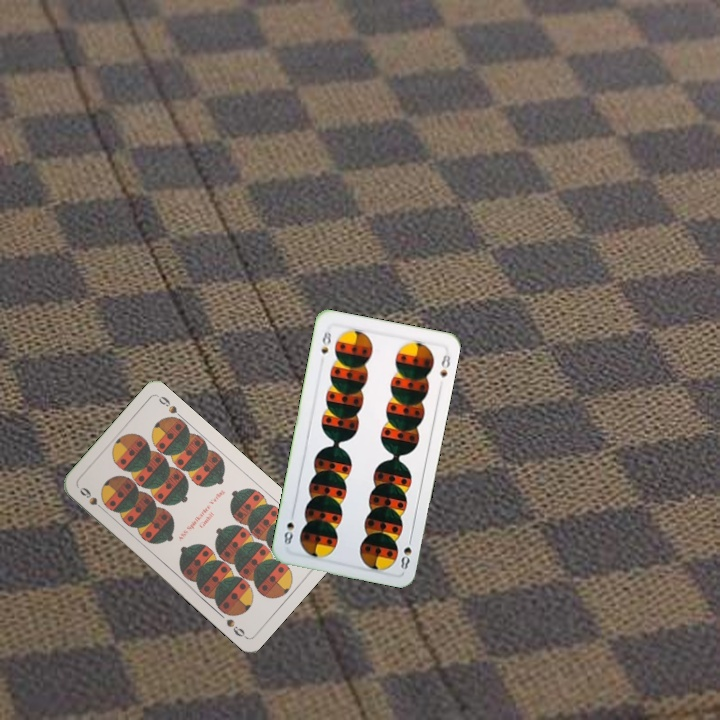S8: (397, 532, 415, 572), (317, 327, 334, 356)
S9: (75, 483, 108, 514)
